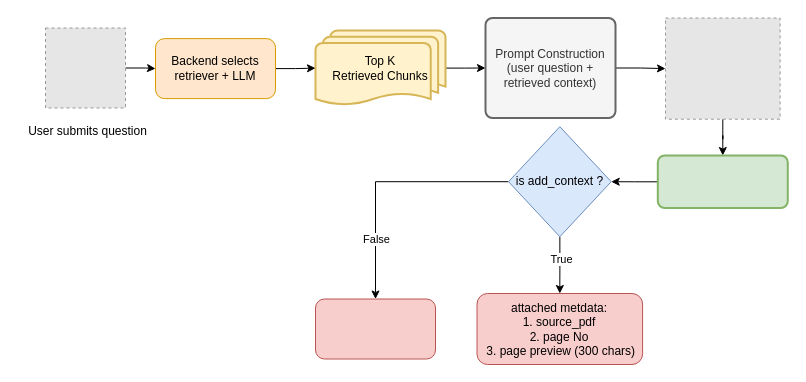
Some shapes in this 806 by 382 pixel diagram are drawn without their labels. Grey dashed boxes stand in for pictures. The centre of each missing label's shape, as x and y in pixels:
Answer Polishing/Post-processing: point (722, 181)
Only final answer: point (375, 328)
